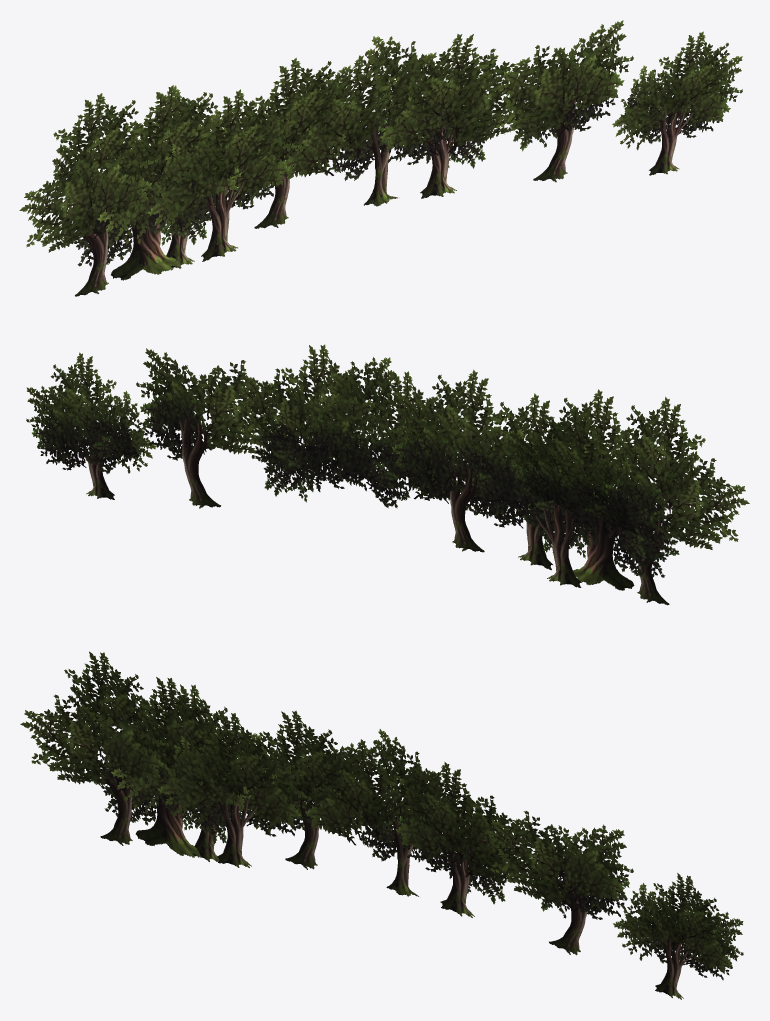
Rendered from Dark Forest Trees.FBX.
3 views of the same model, one above another, from view 1: azimuth 30°, elevation 25°; view 2: azimuth 150°, elevation 25°; view 3: azimuth 330°, elevation 25° (orthographic). The views are drawn at different scales.
Visible parts, largest first — view 1: Trees; view 2: Trees; view 3: Trees.
Boxes of the visible parts, box(x1,y1,x2,y2) form: Trees: box(19, 20, 742, 296); Trees: box(26, 344, 749, 605); Trees: box(20, 651, 743, 999).
Bounding box in the file's own units: 3282 × 199 × 1023.
